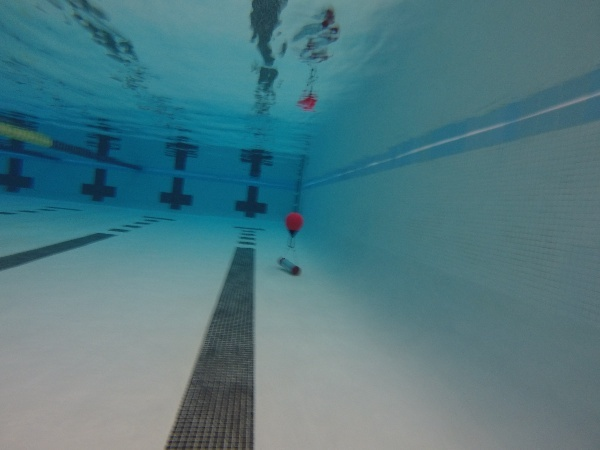buoy_red: (282, 211, 304, 237)
